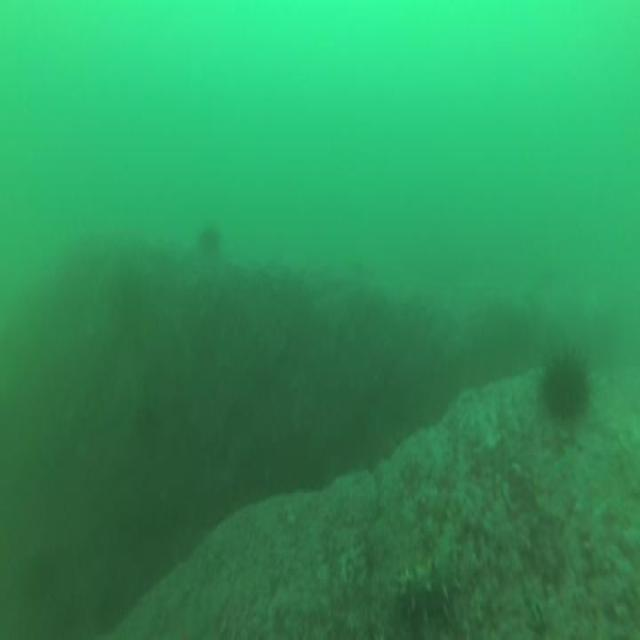echinus: (542, 355, 591, 422), (198, 229, 219, 259)
holothurian: (401, 523, 458, 620)
